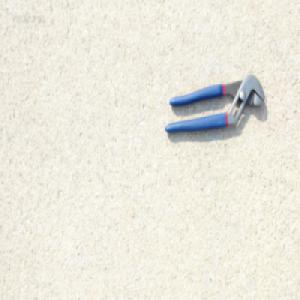Pliers: (163, 74, 264, 134)
